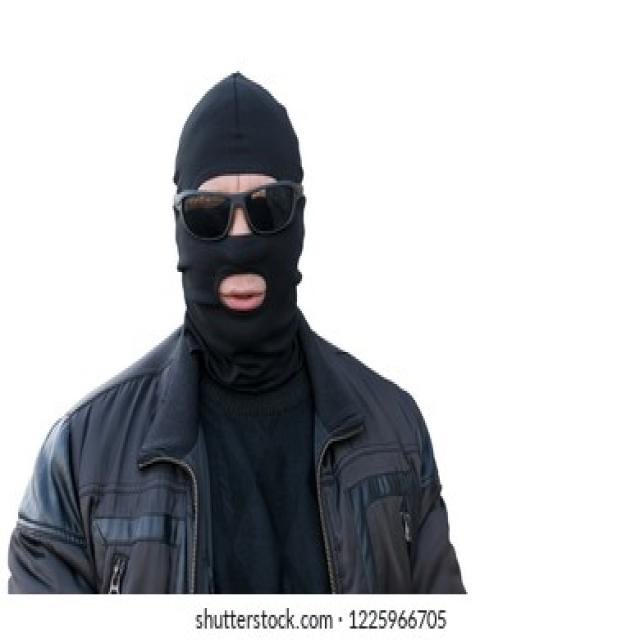6_pasamontana: (175, 73, 308, 395)
